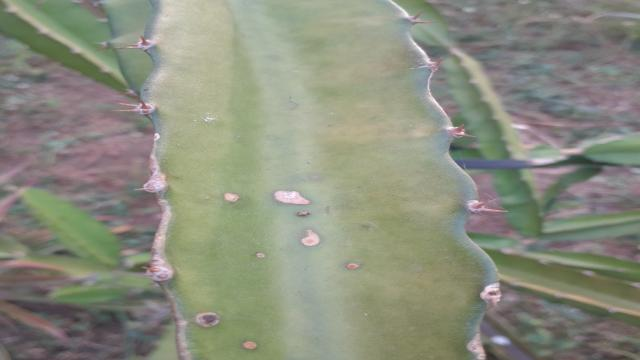stemcanker: (169, 186, 378, 360)
